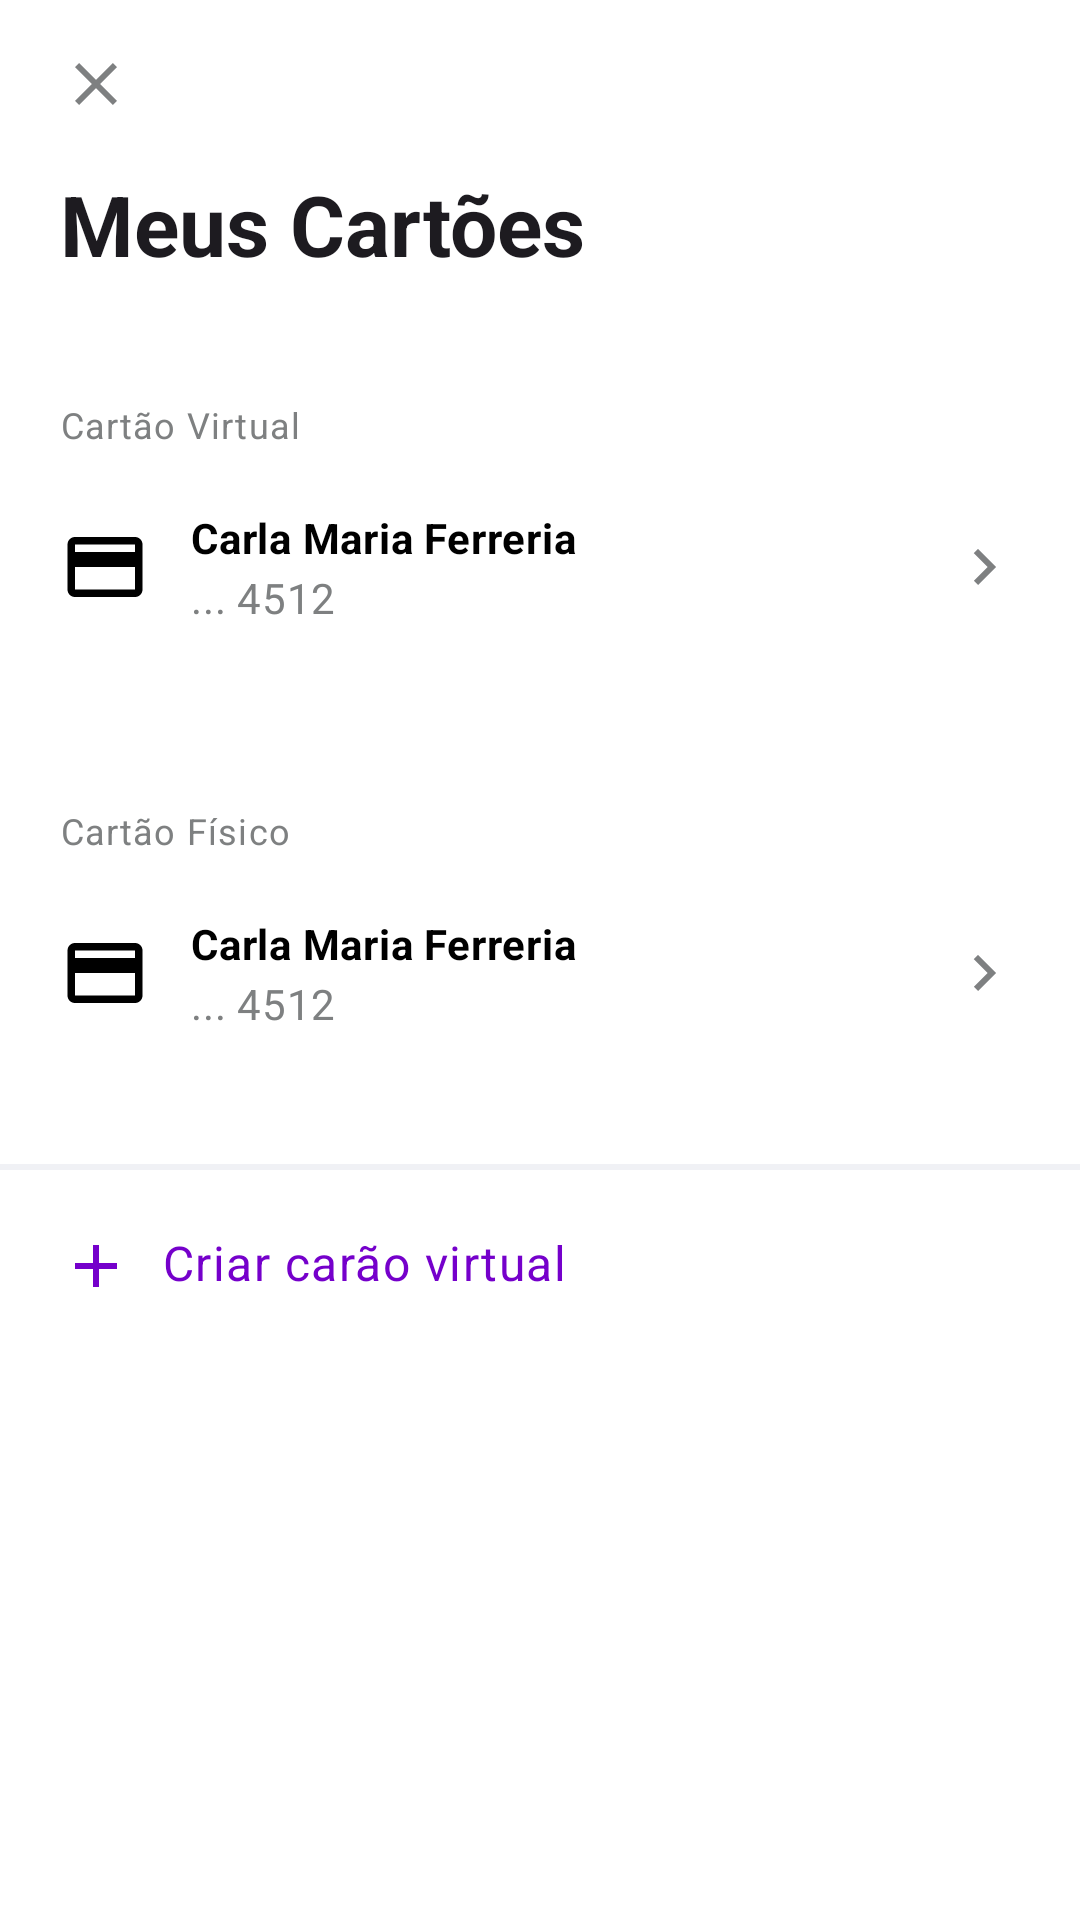

Screen size 1080px x 1920px. Icon name, then its center in pixels as point (x, y):
Ícone em forma de X para o usuário fechar SheetBottom: point (96, 84)
